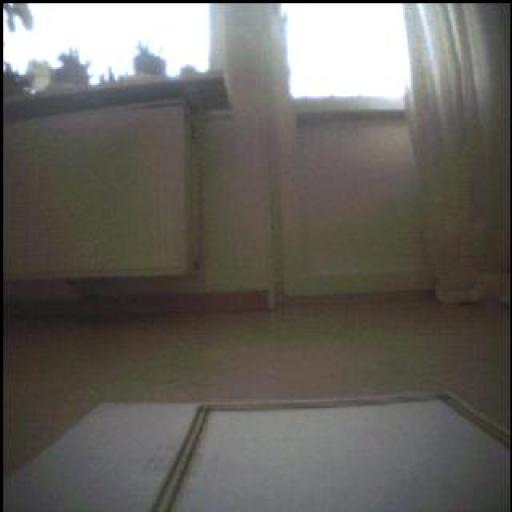Pad: (1, 388, 512, 512)
